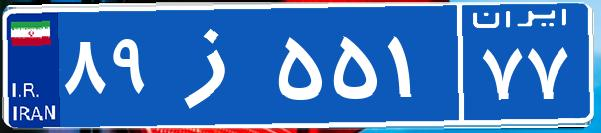1: (385, 28, 445, 110)
5: (273, 28, 330, 110), (330, 28, 385, 110)
7: (475, 38, 525, 113), (525, 38, 570, 115)
8: (57, 26, 110, 107)
9: (110, 28, 158, 105)
ز: (158, 15, 273, 115)
